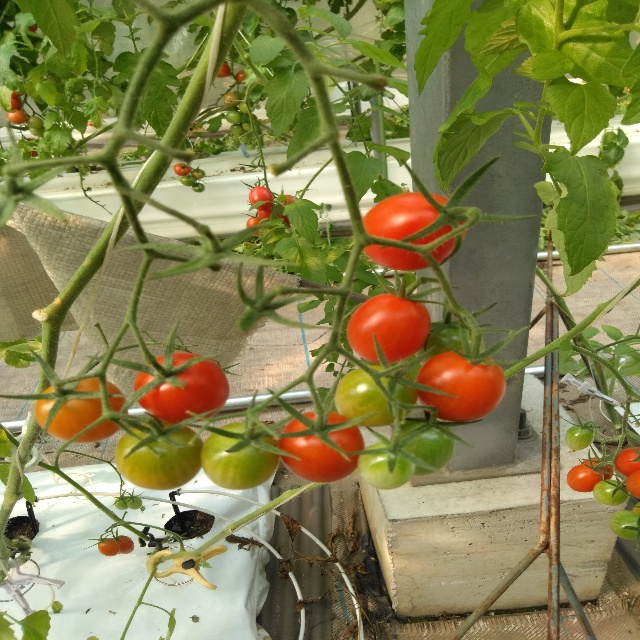l_fully_ripened: (358, 192, 466, 271), (133, 351, 230, 424), (415, 351, 507, 422), (277, 409, 364, 482), (347, 292, 431, 364), (567, 463, 604, 493), (581, 457, 615, 480), (615, 446, 640, 476), (249, 187, 274, 211), (114, 534, 135, 554)
l_green: (115, 417, 203, 490), (200, 420, 280, 491), (334, 365, 417, 427), (388, 417, 455, 476), (413, 318, 486, 366), (358, 441, 416, 490), (592, 479, 628, 506), (609, 510, 640, 540), (565, 425, 594, 451), (127, 496, 142, 510), (115, 496, 130, 510)
l_half_ripened: (33, 376, 128, 443), (626, 470, 640, 499), (98, 538, 119, 557)
